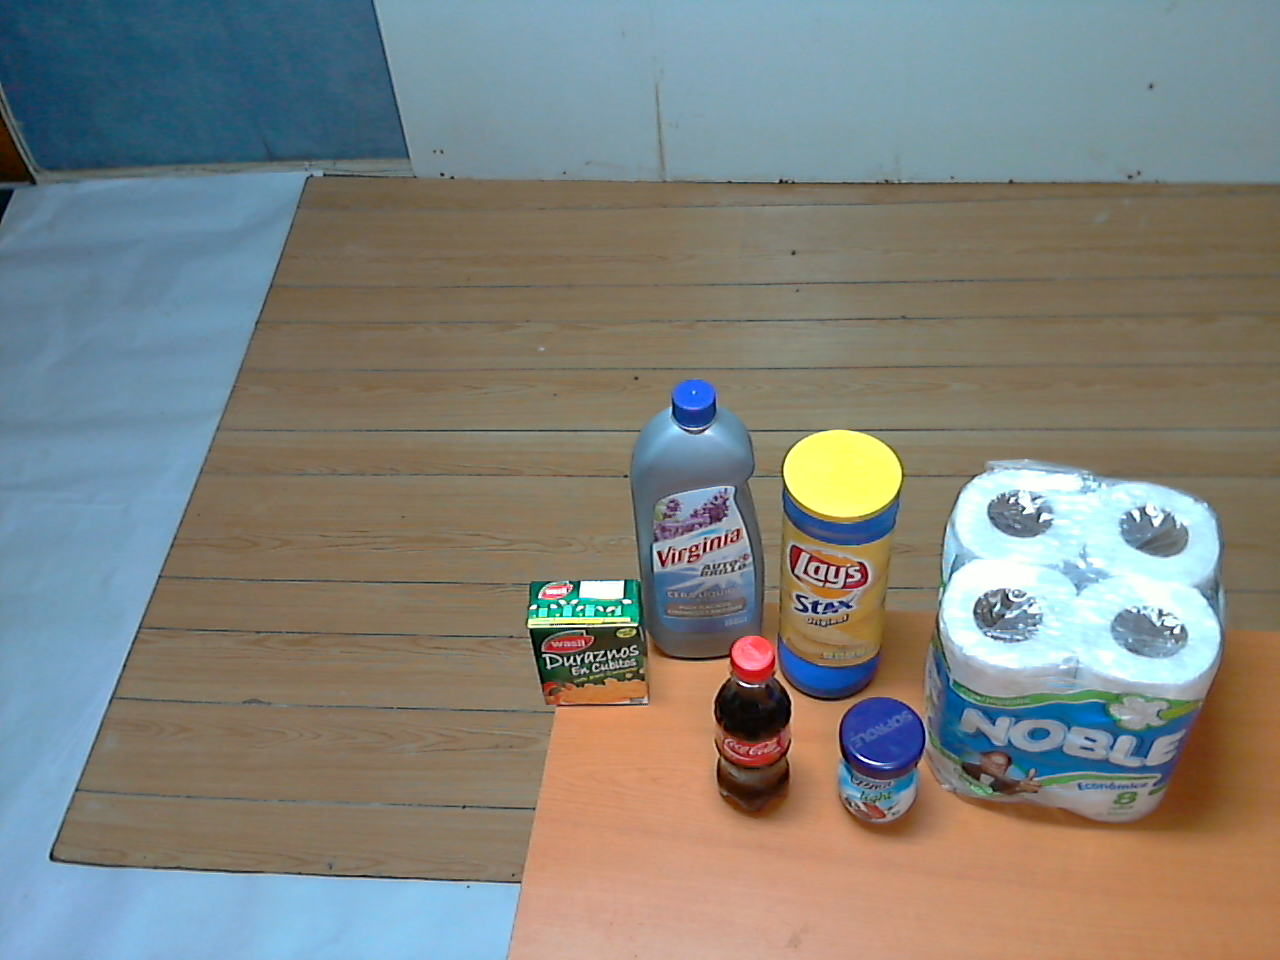cera: (624, 378, 777, 667)
coca: (701, 629, 799, 826)
crema: (829, 689, 935, 838)
durazno: (527, 572, 658, 713)
papas: (766, 419, 913, 706)
